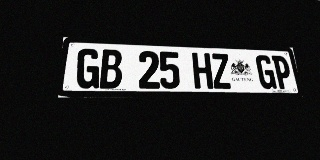2: (139, 51, 160, 89)
5: (159, 51, 181, 89)
B: (100, 49, 122, 89)
G: (76, 48, 100, 89), (255, 55, 277, 89)
H: (192, 53, 213, 89)
P: (271, 56, 293, 89)
Z: (210, 53, 232, 89)
